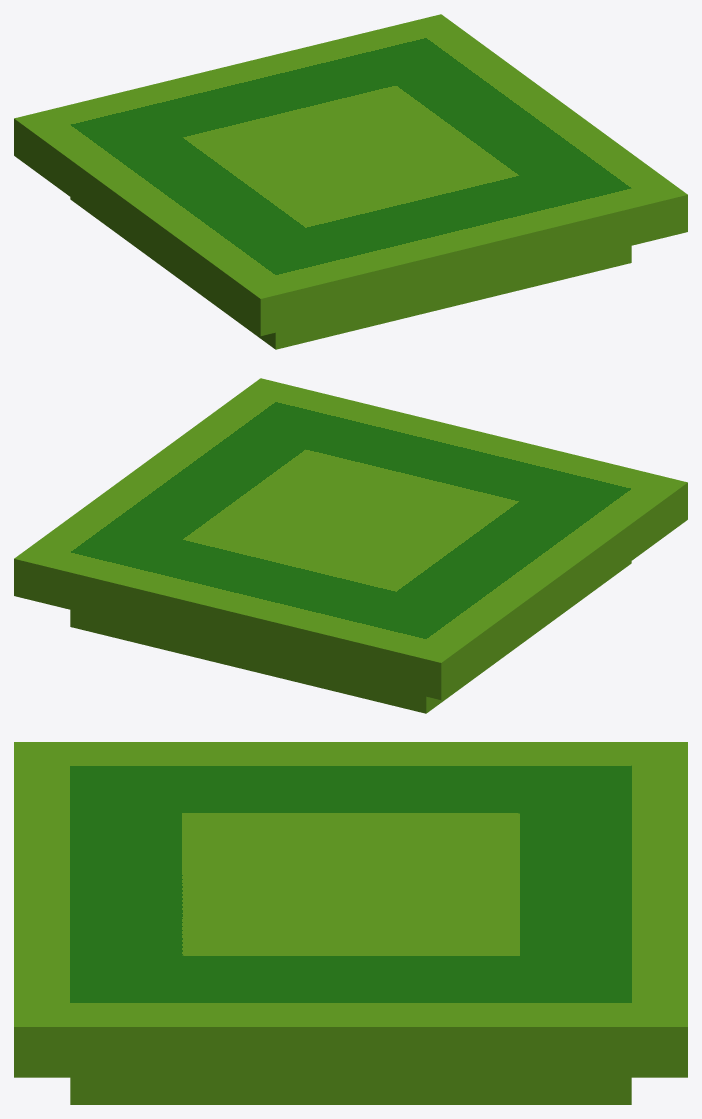
Rendered from PlatoVerdeAsset.fbx.
The picture shows the model from 3 angles, top to bottom: view 1: azimuth 30°, elevation 25°; view 2: azimuth 150°, elevation 25°; view 3: azimuth 270°, elevation 25°; orthographic projection. The views are drawn at different scales.
Parts seen in each view (by area): view 1: PlatoVerde; view 2: PlatoVerde; view 3: PlatoVerde.
Boxes of the visible parts, x1,y1,x2,y2 form: PlatoVerde: [14, 14, 687, 349]; PlatoVerde: [14, 378, 687, 713]; PlatoVerde: [14, 742, 687, 1104].
Size of the model in its own units: 1.2 by 1.2 by 0.2.
